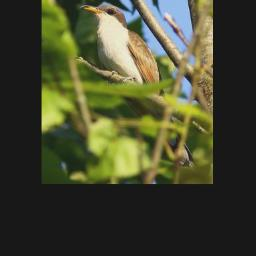Cuckoo: (78, 0, 198, 171)
